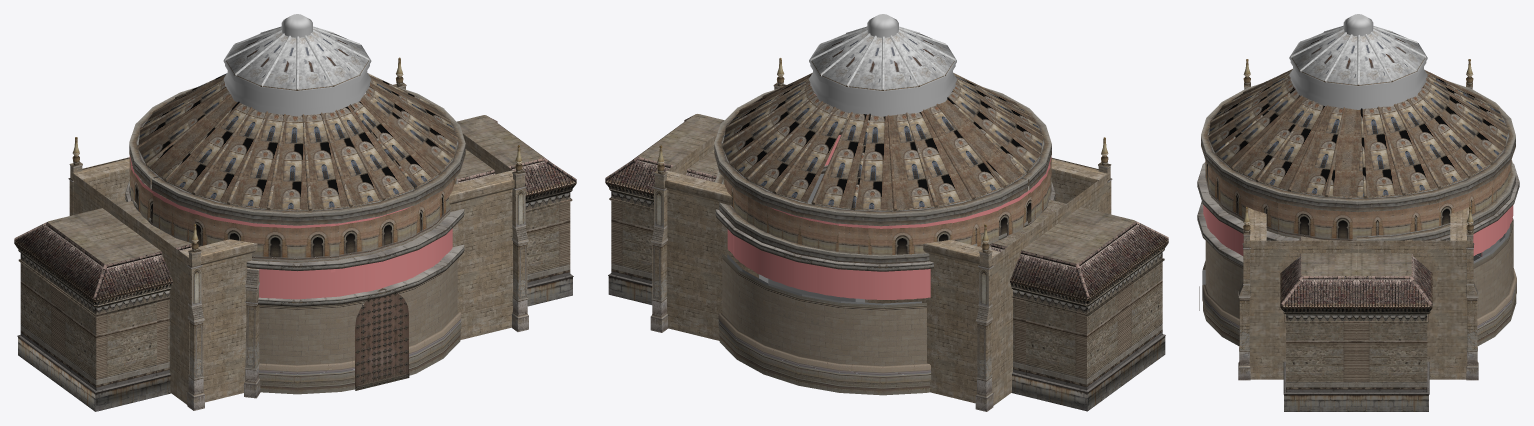
The model's file is .Tower6.fbx.
3 renders of one model, left to right at view 1: azimuth 30°, elevation 25°; view 2: azimuth 150°, elevation 25°; view 3: azimuth 270°, elevation 25°, orthographic. The views are drawn at different scales.
Parts seen in each view (by area): view 1: LV_Spechia_City_OfficeRoof02_SM_KJH; view 2: LV_Spechia_City_OfficeRoof02_SM_KJH; view 3: LV_Spechia_City_OfficeRoof02_SM_KJH.
Part boxes in pixels (x1,y1,x2,y2): LV_Spechia_City_OfficeRoof02_SM_KJH: [14, 14, 576, 411]; LV_Spechia_City_OfficeRoof02_SM_KJH: [605, 14, 1168, 411]; LV_Spechia_City_OfficeRoof02_SM_KJH: [1197, 14, 1519, 411].
Bounding box in the file's own units: 10.62 × 6.45 × 6.55.
